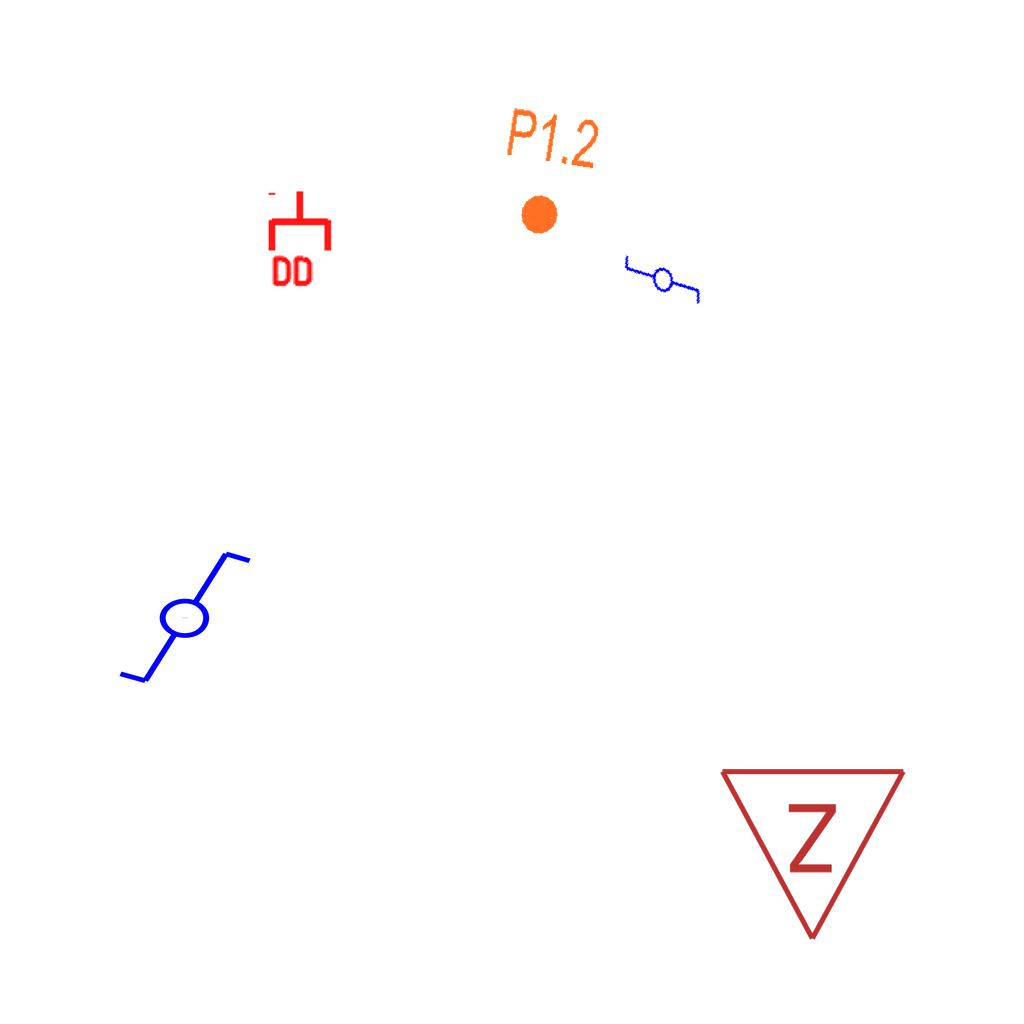Datenanschluss_zweifach: (267, 188, 336, 291)
Downlight_LED_Einbauleuchten_Flur: (491, 103, 604, 245)
Wechselschalter: (98, 544, 255, 688), (618, 237, 708, 331)
Zimmersignalleuchte: (717, 754, 913, 954)
